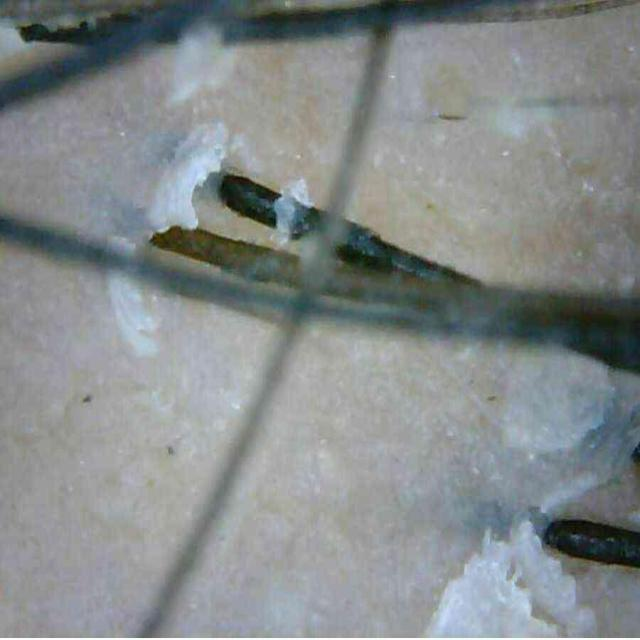d: (426, 521, 595, 639), (426, 540, 556, 639), (148, 123, 228, 231)
